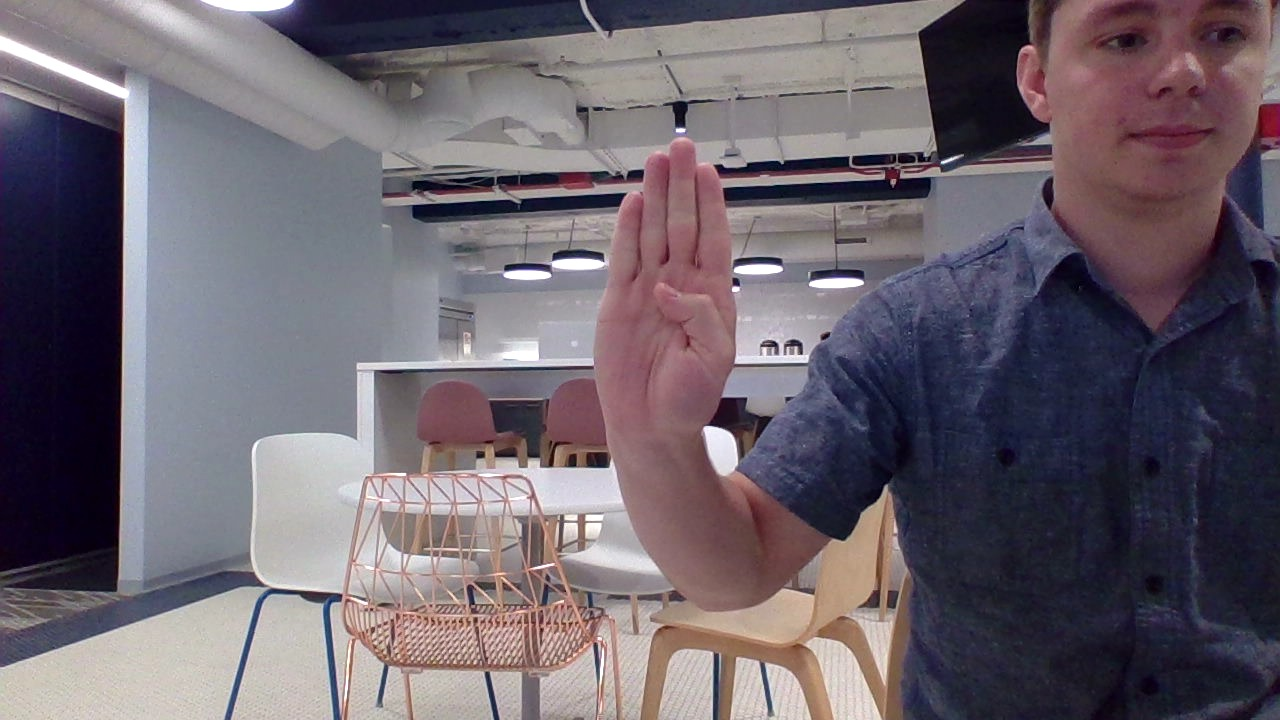b: (571, 127, 763, 460)
